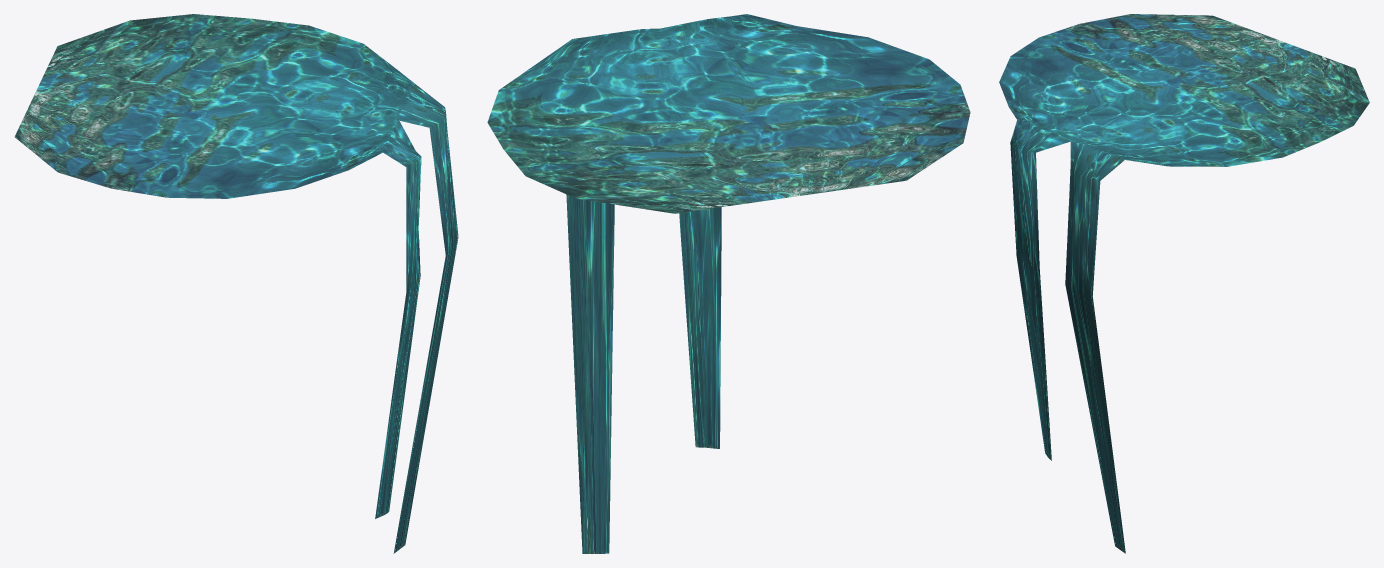
File: Mine_shanti02shui1.FBX
3 renders of one model, left to right at view 1: azimuth 30°, elevation 25°; view 2: azimuth 150°, elevation 25°; view 3: azimuth 270°, elevation 25°, orthographic. The views are drawn at different scales.
Parts seen in each view (by area): view 1: Plane001; view 2: Plane001; view 3: Plane001.
Boxes of the visible parts, box(x1,y1,x2,y2) form: Plane001: box(14, 14, 458, 553); Plane001: box(487, 14, 970, 553); Plane001: box(999, 14, 1369, 553).
Bounding box in the file's own units: 7170 × 8308 × 7012.
Materials: 1 (1 with a texture image).
